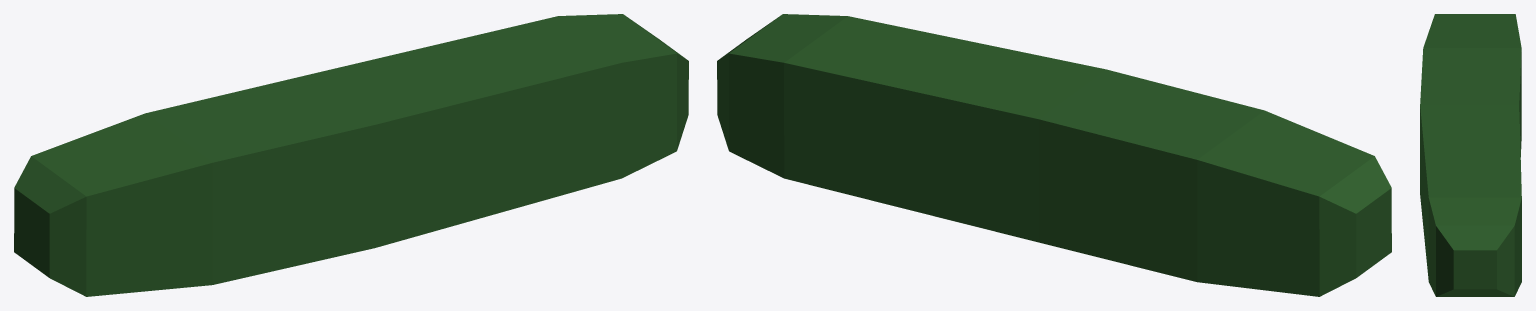
Rendered from cucumber.fbx.
3 renders of one model, left to right at view 1: azimuth 30°, elevation 25°; view 2: azimuth 150°, elevation 25°; view 3: azimuth 270°, elevation 25°, orthographic. The views are drawn at different scales.
Parts seen in each view (by area): view 1: cucumber; view 2: cucumber; view 3: cucumber.
Part boxes in pixels (box(x1,y1,x2,y2)): cucumber: box(14, 14, 688, 296); cucumber: box(717, 14, 1391, 296); cucumber: box(1420, 14, 1521, 296).
Size of the model in its own units: 32.59 by 5.98 by 6.13.
1 material, 1 textured.
